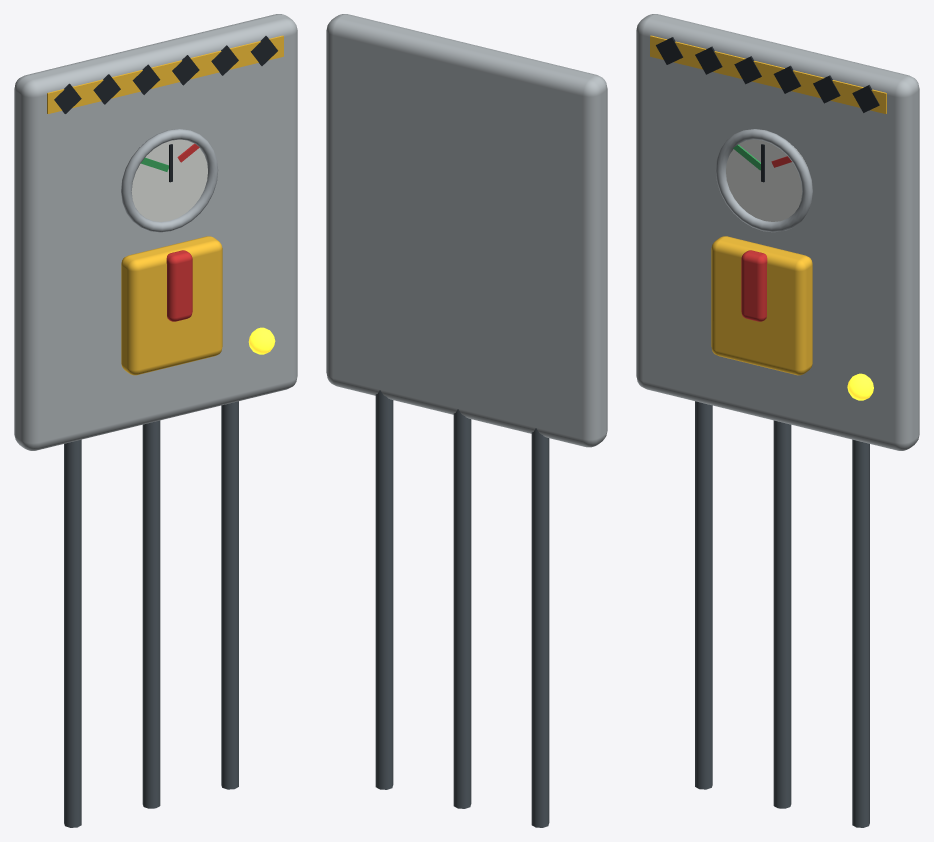
Rendered from utility-panel.glb.
3 renders of one model, left to right at view 1: azimuth 30°, elevation 25°; view 2: azimuth 150°, elevation 25°; view 3: azimuth 330°, elevation 25°, orthographic.
Parts seen in each view (by area): view 1: utility-panel-panel-grey, utility-panel-dark-steel, utility-panel-hazard-yellow, utility-panel-hull-white, utility-panel-aluminium, utility-panel-dark-polymer, save_switch-signal-red, save-dome; view 2: utility-panel-panel-grey, utility-panel-dark-steel; view 3: utility-panel-panel-grey, utility-panel-dark-steel, utility-panel-hazard-yellow, utility-panel-hull-white, utility-panel-aluminium, utility-panel-dark-polymer, save_switch-signal-red, save-dome.
Part boxes in pixels (bbox=[...]): utility-panel-panel-grey: bbox=[14, 14, 297, 450]; utility-panel-dark-steel: bbox=[64, 401, 238, 827]; utility-panel-hazard-yellow: bbox=[47, 35, 283, 375]; utility-panel-hull-white: bbox=[127, 139, 207, 221]; utility-panel-aluminium: bbox=[121, 129, 218, 232]; utility-panel-dark-polymer: bbox=[54, 36, 277, 113]; save_switch-signal-red: bbox=[166, 250, 192, 321]; save-dome: bbox=[248, 327, 275, 354]; utility-panel-panel-grey: bbox=[326, 14, 607, 447]; utility-panel-dark-steel: bbox=[375, 390, 549, 827]; utility-panel-panel-grey: bbox=[636, 14, 919, 450]; utility-panel-dark-steel: bbox=[695, 401, 869, 827]; utility-panel-hazard-yellow: bbox=[650, 35, 886, 375]; utility-panel-hull-white: bbox=[726, 139, 806, 221]; utility-panel-aluminium: bbox=[715, 129, 812, 232]; utility-panel-dark-polymer: bbox=[656, 37, 879, 112]; save_switch-signal-red: bbox=[741, 250, 767, 321]; save-dome: bbox=[847, 373, 873, 400].
Size of the model in its own units: 0.7 by 1.85 by 0.16.
